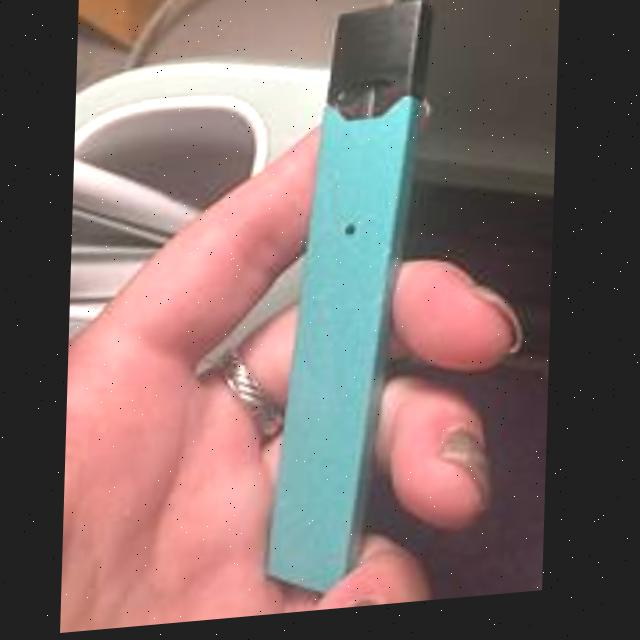vape: (265, 2, 437, 607)
